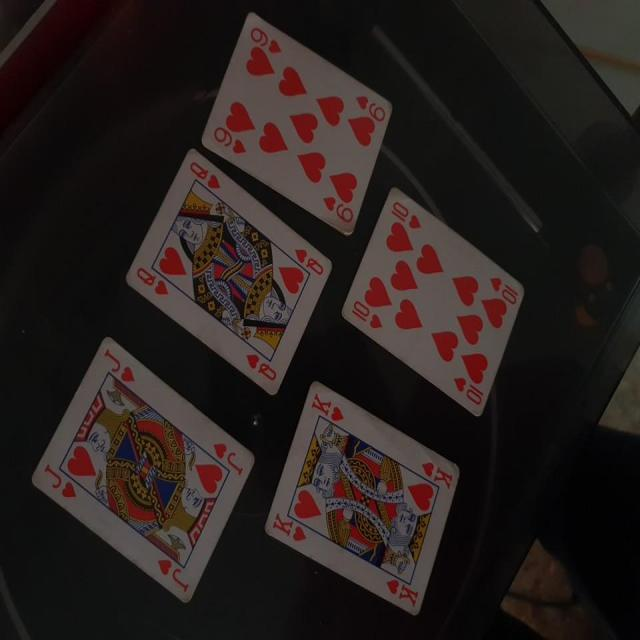10 Hearts: (338, 180, 528, 424)
9 Hearts: (194, 8, 399, 248)
J Hearts: (20, 333, 261, 618)
K Hearts: (266, 380, 465, 626)
Q Hearts: (115, 140, 335, 407)
